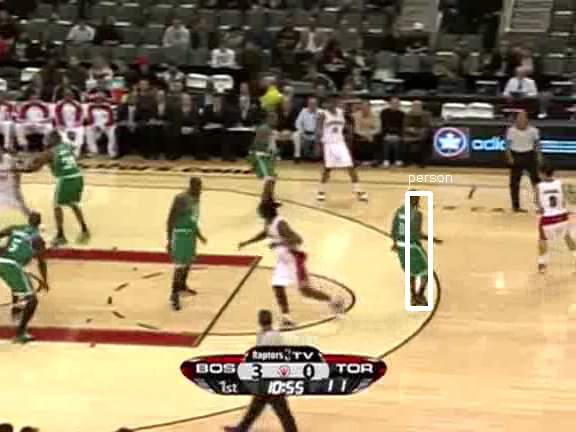person: (393, 204, 427, 285), (392, 204, 426, 285), (394, 204, 428, 285), (393, 203, 427, 284), (393, 205, 427, 286)
target_negative: (161, 29, 457, 292), (67, 36, 231, 367), (200, 294, 522, 391), (368, 136, 474, 241), (330, 75, 358, 299), (386, 340, 464, 372)
